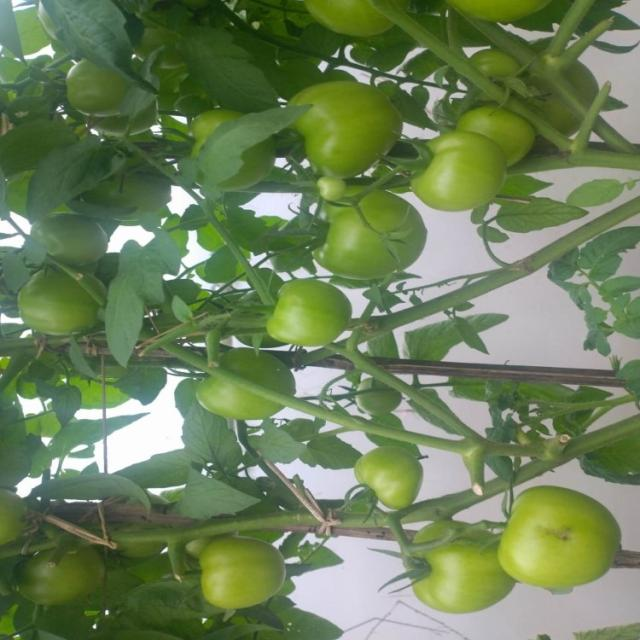tomato: (503, 479, 622, 586), (307, 186, 426, 278), (472, 50, 603, 133), (198, 343, 307, 442), (290, 82, 405, 173), (401, 517, 511, 610), (189, 529, 304, 609), (256, 272, 354, 357), (414, 135, 502, 217), (21, 536, 101, 614), (23, 258, 100, 339), (462, 94, 537, 165), (353, 442, 422, 513), (35, 201, 108, 265), (308, 1, 409, 36), (71, 55, 131, 109), (180, 102, 234, 151), (450, 5, 548, 27), (1, 479, 30, 550), (117, 527, 172, 563)
